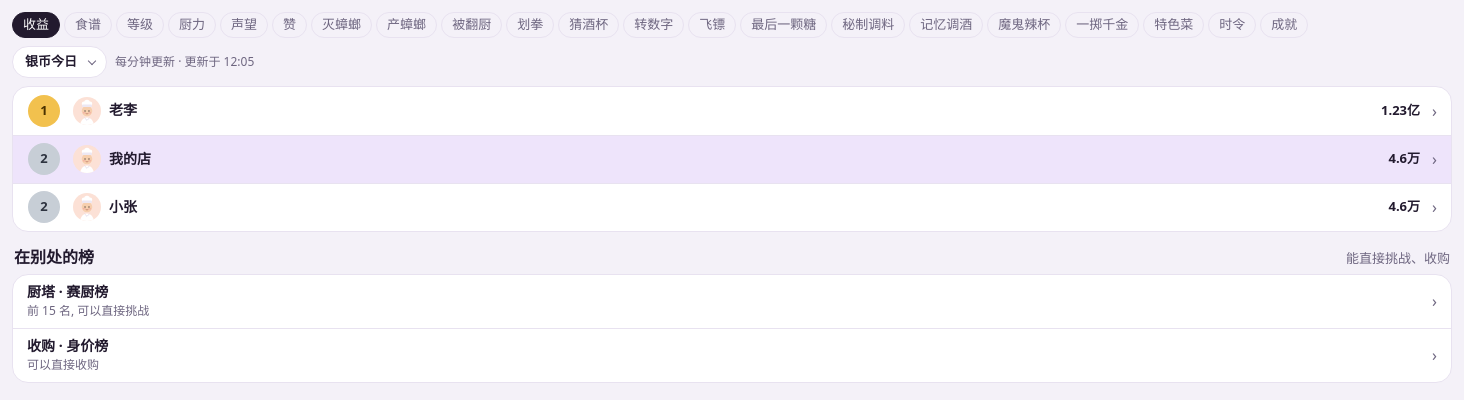
Test case: RankPanel › 厨力榜写"每 10 分钟更新"，其他榜每分钟（PR29 遗留）
Expected: the element with test id "rank-meta" shows "每分钟更新", [115,52,175,70]
Click the button with test id "rank-group-厨力" at (192, 25), box [168,12,216,38]
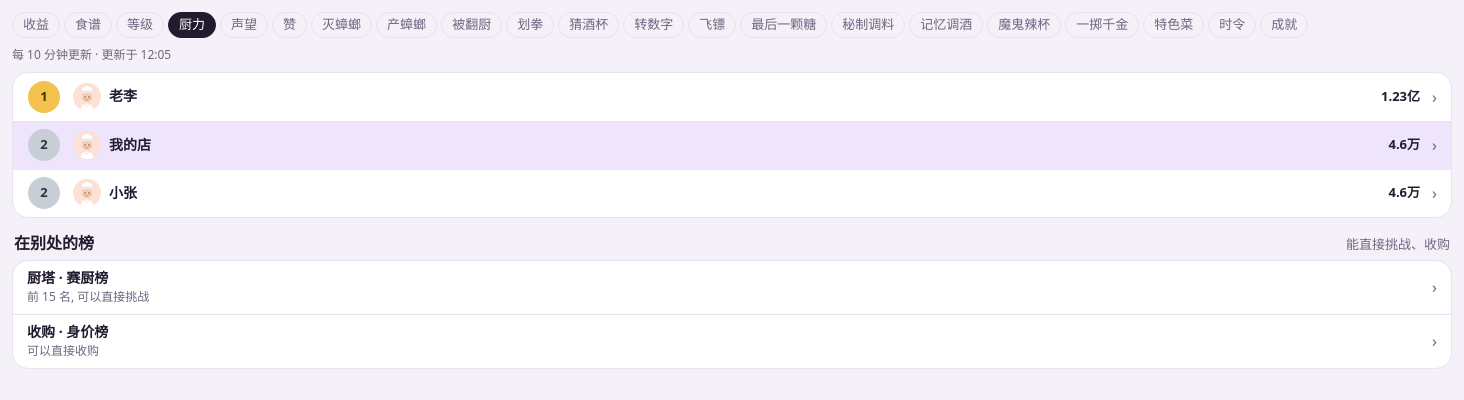
Expected: the element with test id "rank-meta" shows "每 10 分钟更新", [12,46,92,62]
